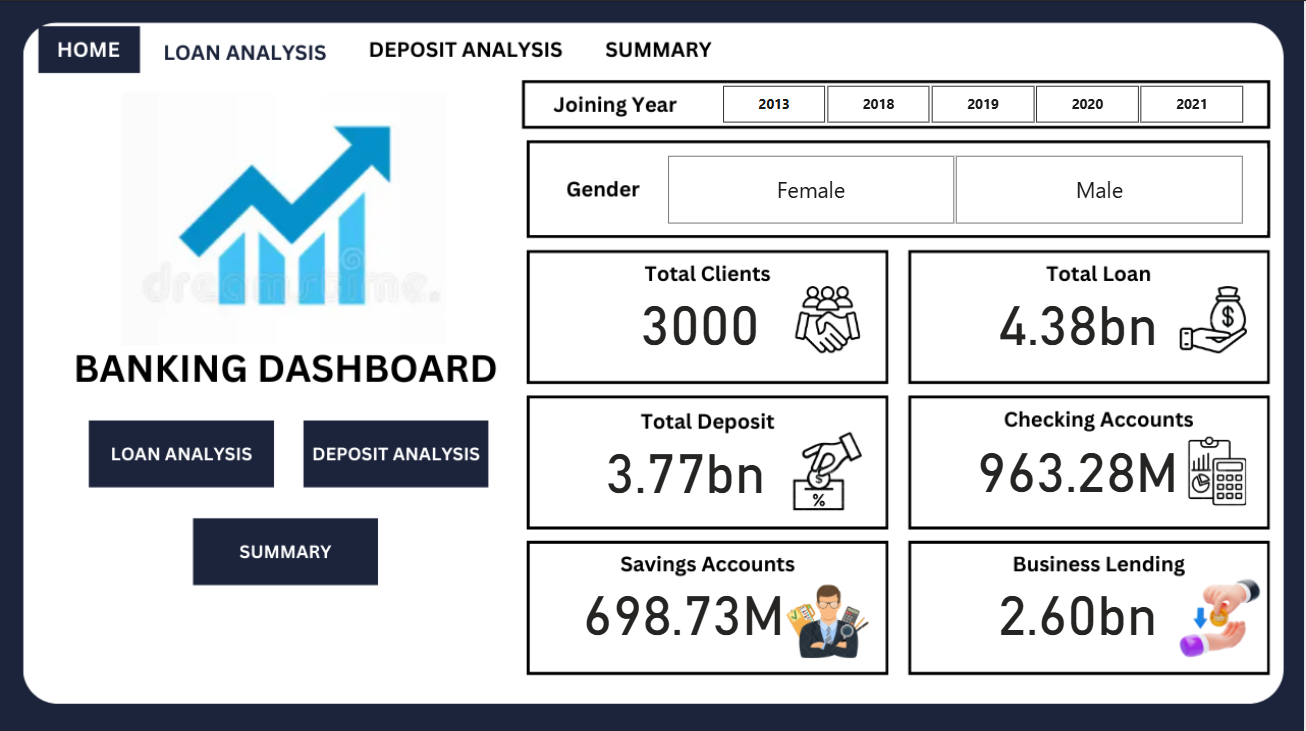

Layout of this report page (visuals, bound fields, positions):
{"tool":"powerbi","page":{"name":"Home","canvas":[1280,720],"ordinal":0},"visuals":[{"type":"card","fields":{"Values":["banking_case customer.Name"]},"box":[580.5,275.2,213.6,74.7],"z":0},{"type":"slicer","fields":{"Values":["banking_case customer.GenderId"]},"box":[629.8,145.2,614.3,81],"z":1000},{"type":"card","fields":{"Values":["banking_case customer.Total Loan"]},"box":[951.4,275.2,214.9,74.7],"z":2000},{"type":"card","fields":{"Values":["banking_case customer.Total Deposit"]},"box":[566.9,419.6,212.3,74.8],"z":3000},{"type":"slicer","fields":{"Values":["banking_case customer.Year of Joining"]},"box":[683.4,76.1,560.7,50.3],"z":4000},{"type":"card","fields":{"Values":["banking_case customer.Saving Accounts"]},"box":[564.4,559.5,213.5,74.8],"z":5000},{"type":"card","fields":{"Values":["banking_case customer.Business Lending"]},"box":[951.4,559.5,213.6,74.7],"z":6000},{"type":"card","fields":{"Values":["banking_case customer.Checking Accounts"]},"box":[951.4,418,213.6,76],"z":7000},{"type":"actionButton","box":[191.5,514.3,175.7,55.4],"z":8000},{"type":"actionButton","box":[346,28.2,220.9,39.3],"z":9000},{"type":"actionButton","box":[91.8,417.8,172.5,58.6],"z":10000},{"type":"actionButton","box":[296.9,419.6,177.9,56.4],"z":11000},{"type":"actionButton","box":[150.9,28.2,185.3,39.3],"z":12000}]}

Visuals, with their boxes in screenshot pixels (x1, y1, x2, y2), scaled from the page's 1280x720 canvas onto the 1306x731 screenshot:
card - banking_case customer.Name: rect(592, 279, 810, 355)
slicer - banking_case customer.GenderId: rect(643, 147, 1269, 230)
card - banking_case customer.Total Loan: rect(971, 279, 1190, 355)
card - banking_case customer.Total Deposit: rect(578, 426, 795, 502)
slicer - banking_case customer.Year of Joining: rect(697, 77, 1269, 128)
card - banking_case customer.Saving Accounts: rect(576, 568, 794, 644)
card - banking_case customer.Business Lending: rect(971, 568, 1189, 644)
card - banking_case customer.Checking Accounts: rect(971, 424, 1189, 502)
actionButton: rect(195, 522, 375, 578)
actionButton: rect(353, 29, 578, 69)
actionButton: rect(94, 424, 270, 484)
actionButton: rect(303, 426, 484, 483)
actionButton: rect(154, 29, 343, 69)
